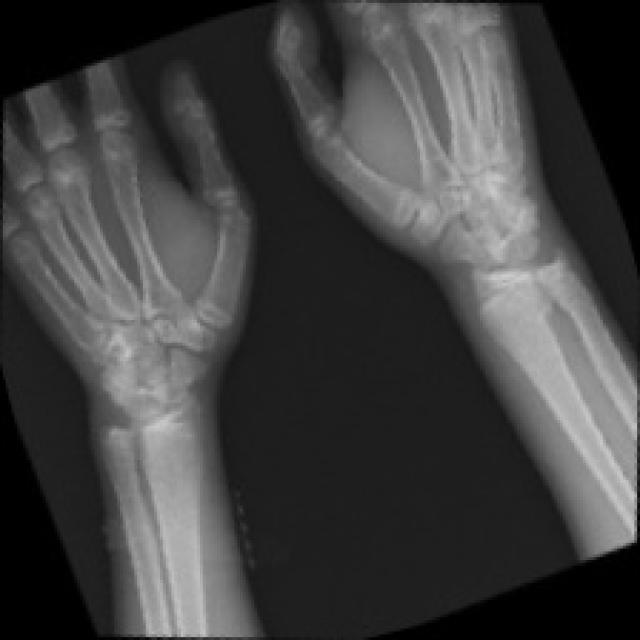fracture: (436, 225, 624, 339)
